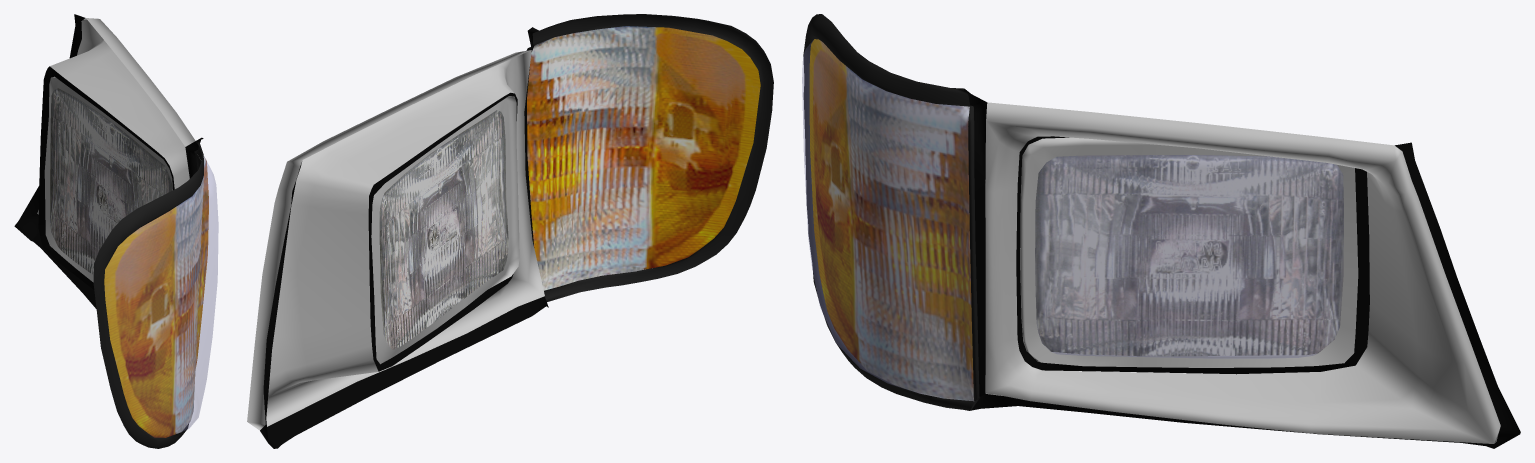
The picture shows the model from 3 angles, left to right: view 1: azimuth 30°, elevation 25°; view 2: azimuth 150°, elevation 25°; view 3: azimuth 270°, elevation 25°; orthographic projection. The views are drawn at different scales.
Parts seen in each view (by area): view 1: P615_5A_061B_R_P615_5A_061B_R_3_N, P615_5A_061B_R_P615_5A_061B_R_6_DTaSI, P615_5A_061B_R_2_DaS_P615_5A_061B_R, P615_5A_061B_R_P615_5A_061B_R_5_D, P615_5A_061B_R_P615_5A_061B_R_4_D; view 2: P615_5A_061B_R_P615_5A_061B_R_3_N, P615_5A_061B_R_2_DaS_P615_5A_061B_R, P615_5A_061B_R_P615_5A_061B_R_4_D, P615_5A_061B_R_P615_5A_061B_R_5_D; view 3: P615_5A_061B_R_P615_5A_061B_R_3_N, P615_5A_061B_R_2_DaS_P615_5A_061B_R, P615_5A_061B_R_P615_5A_061B_R_1_DTaSI, P615_5A_061B_R_P615_5A_061B_R_6_DTaSI, P615_5A_061B_R_P615_5A_061B_R_4_D, P615_5A_061B_R_P615_5A_061B_R_5_D.
Boxes of the visible parts, x1=… form: P615_5A_061B_R_P615_5A_061B_R_3_N: x1=50, y1=88, x2=208, y2=437; P615_5A_061B_R_P615_5A_061B_R_6_DTaSI: x1=104, y1=157, x2=218, y2=437; P615_5A_061B_R_2_DaS_P615_5A_061B_R: x1=37, y1=18, x2=195, y2=282; P615_5A_061B_R_P615_5A_061B_R_5_D: x1=93, y1=141, x2=203, y2=448; P615_5A_061B_R_P615_5A_061B_R_4_D: x1=14, y1=14, x2=203, y2=308; P615_5A_061B_R_P615_5A_061B_R_3_N: x1=379, y1=26, x2=760, y2=349; P615_5A_061B_R_2_DaS_P615_5A_061B_R: x1=247, y1=50, x2=544, y2=430; P615_5A_061B_R_P615_5A_061B_R_4_D: x1=260, y1=27, x2=548, y2=448; P615_5A_061B_R_P615_5A_061B_R_5_D: x1=526, y1=14, x2=773, y2=301; P615_5A_061B_R_P615_5A_061B_R_3_N: x1=809, y1=39, x2=1343, y2=401; P615_5A_061B_R_2_DaS_P615_5A_061B_R: x1=985, y1=102, x2=1500, y2=443; P615_5A_061B_R_P615_5A_061B_R_1_DTaSI: x1=1035, y1=155, x2=1343, y2=358; P615_5A_061B_R_P615_5A_061B_R_6_DTaSI: x1=802, y1=39, x2=973, y2=400; P615_5A_061B_R_P615_5A_061B_R_4_D: x1=963, y1=88, x2=1520, y2=448; P615_5A_061B_R_P615_5A_061B_R_5_D: x1=803, y1=14, x2=980, y2=410.
Bounding box in the file's own units: 22.48 × 23.08 × 44.94.
